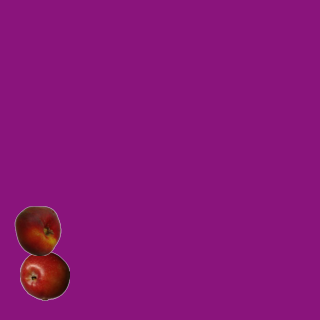Apple Braeburn: (19, 250, 69, 300)
Nectarine Flat: (12, 205, 62, 255)
